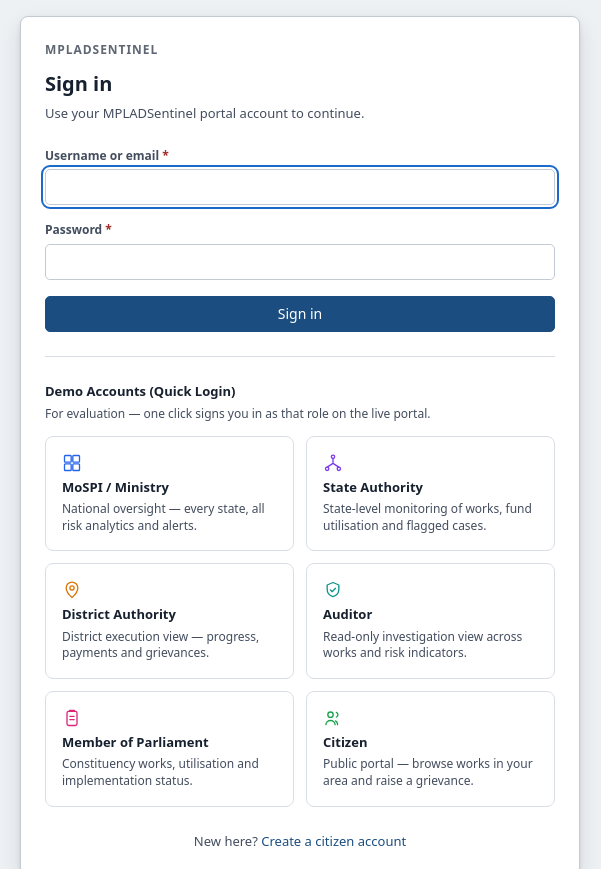
LoginPage › shows an error on bad credentials and stays on the form
This screenshot has width=601, height=869.
Type "mospi" into the field labelled "Username or email *" at (300, 187), box [45, 169, 555, 205]
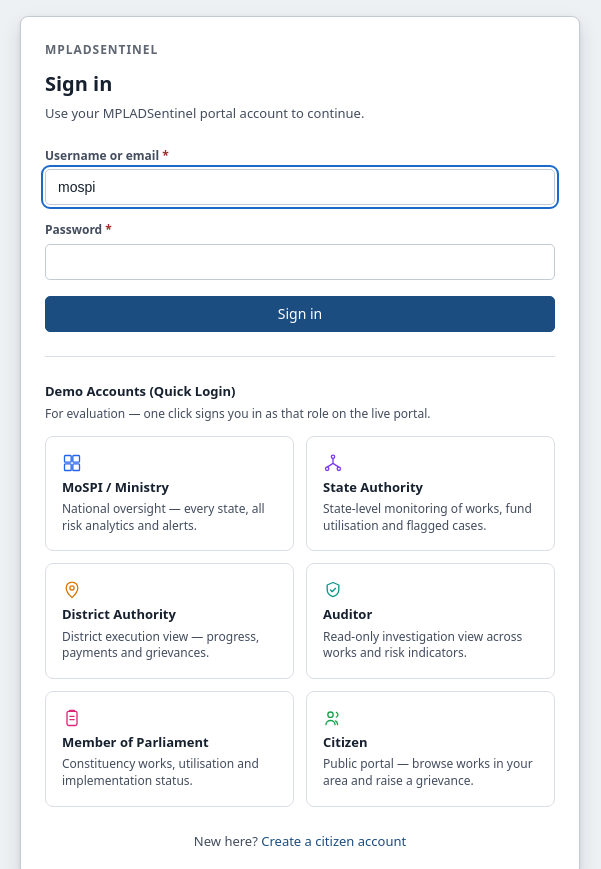
Type "wrong" into the password field labelled "Password *" at (300, 262), box [45, 244, 555, 280]
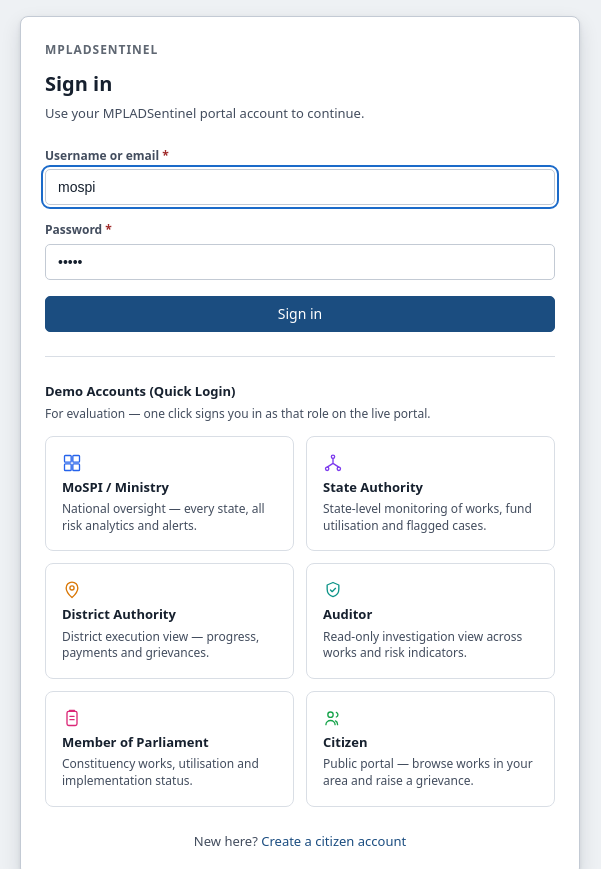
Click the button "Sign in" at (300, 314), box [45, 296, 555, 332]
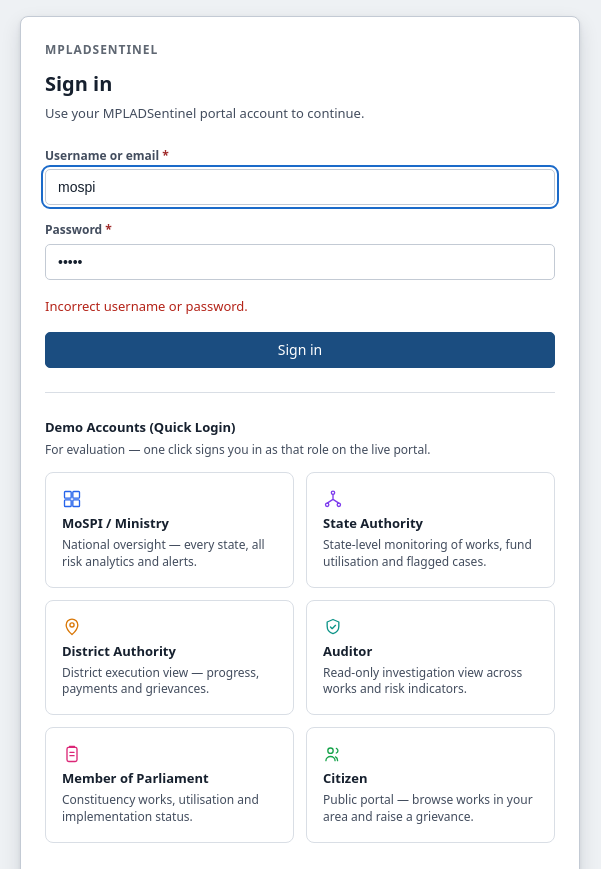
Expected: the button "Sign in" is shown, [45, 332, 555, 368]
Result: the message reads "Incorrect username or password." at [45, 297, 248, 315]
